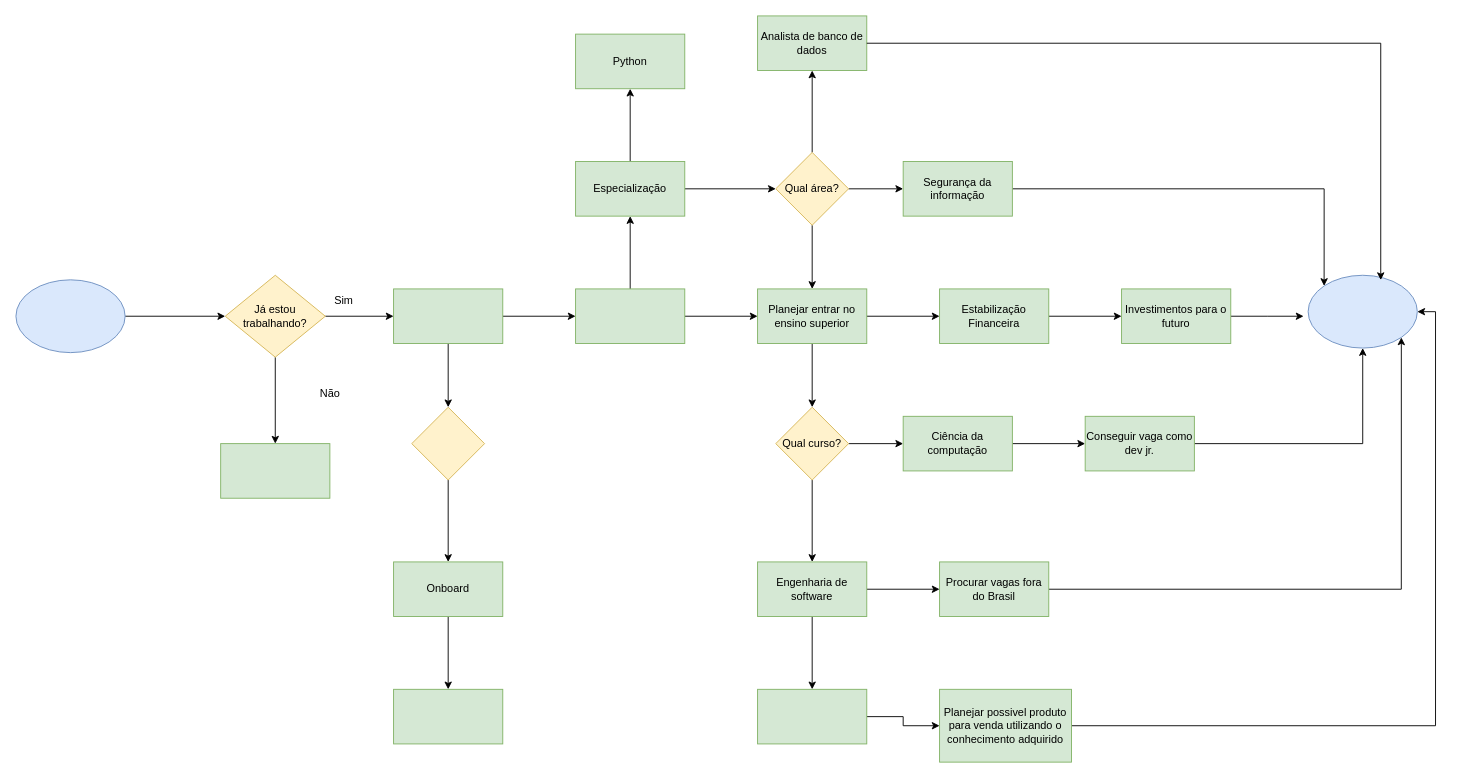
The diagram is 1459 pixels wide and 778 high, and some of its shapes have lost their labels. Here are the shapes that lost their labels. From the top down, the centre of each, then its label:
At point 70,316: "2026 Formatura Senac".
At point 448,316: "Ingressar na área de TI".
At point 630,316: "Adquirir mais conhecimento".
At point 1362,311: "Carreira na área de TI".
At point 448,443: "Manutenção".
At point 275,470: "Continuar tentando".
At point 448,716: "Suporte".
At point 812,716: "Trabalhar fora como desenvolvedor".
